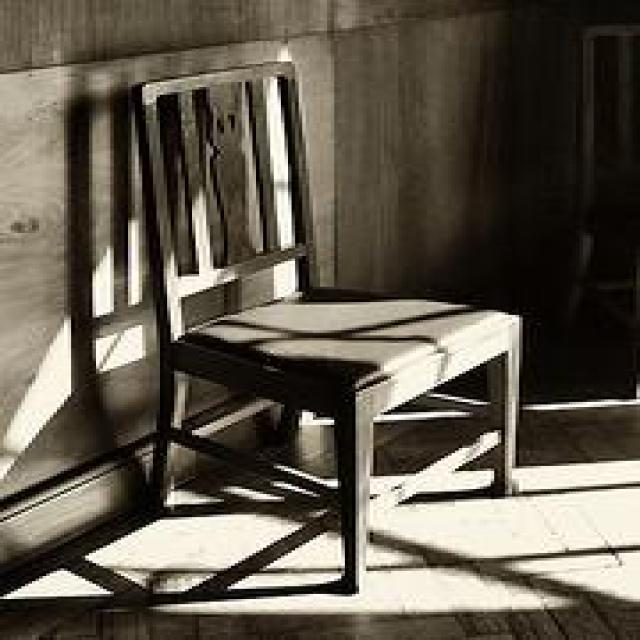chair: (128, 59, 523, 591)
